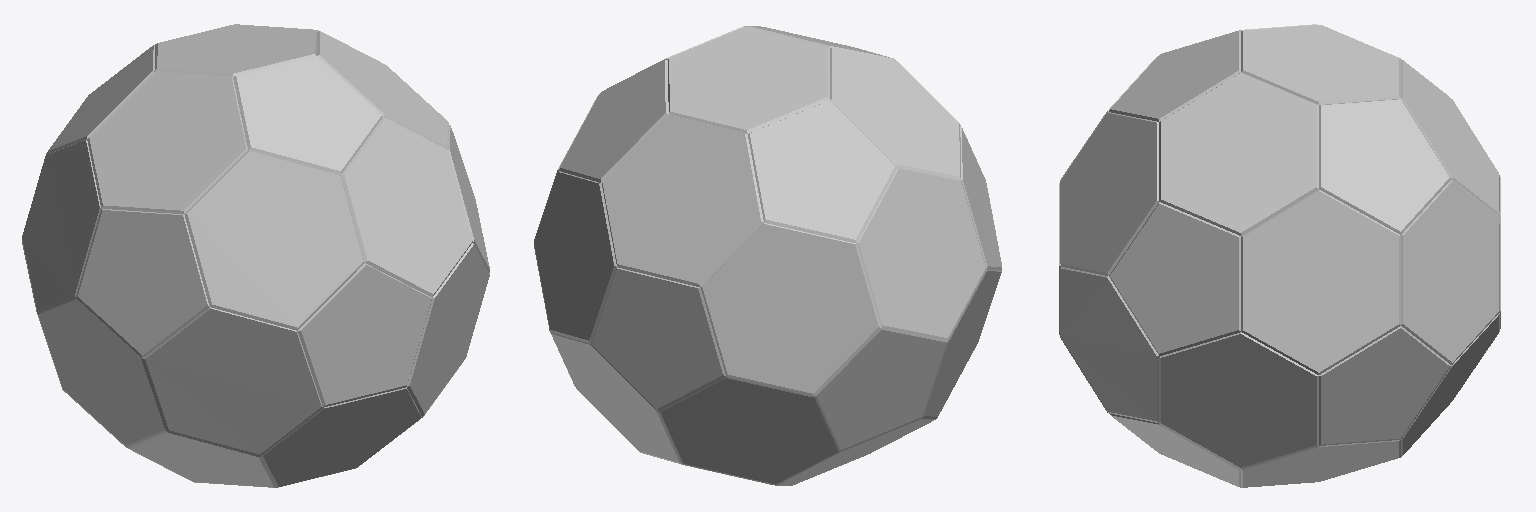
Rendered from soccerBall.obj.
3 renders of one model, left to right at view 1: azimuth 30°, elevation 25°; view 2: azimuth 150°, elevation 25°; view 3: azimuth 270°, elevation 25°, orthographic.
Parts seen in each view (by area): view 1: Soccer_Ball_Platonic; view 2: Soccer_Ball_Platonic; view 3: Soccer_Ball_Platonic.
Part boxes in pixels (x1,y1,x2,y2): Soccer_Ball_Platonic: (22,24,489,487); Soccer_Ball_Platonic: (534,26,1001,485); Soccer_Ball_Platonic: (1059,24,1500,487).
Size of the model in its own units: 1.76 by 1.73 by 1.68.